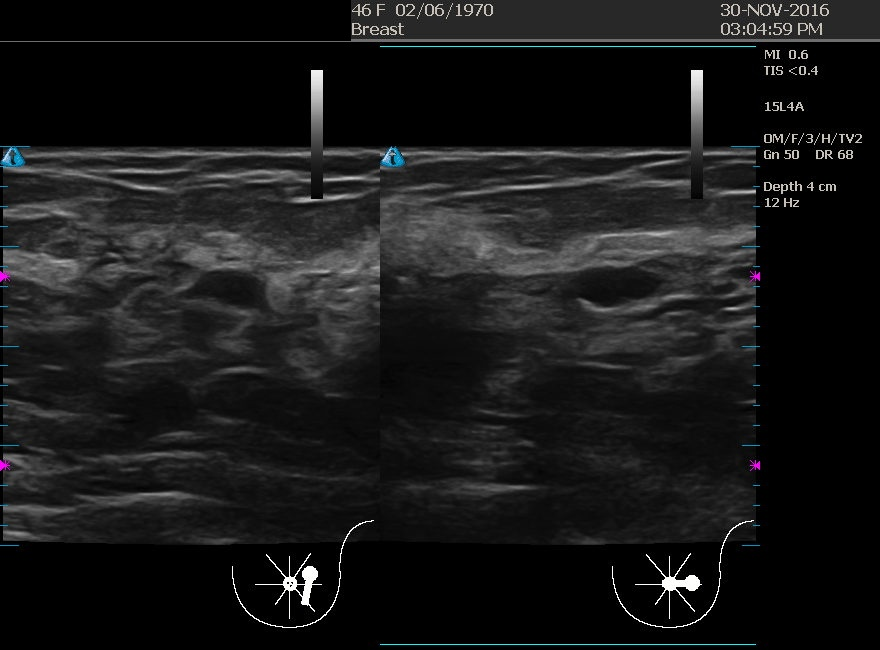BIRADS_2: (118, 207, 319, 407), (514, 202, 714, 402)
